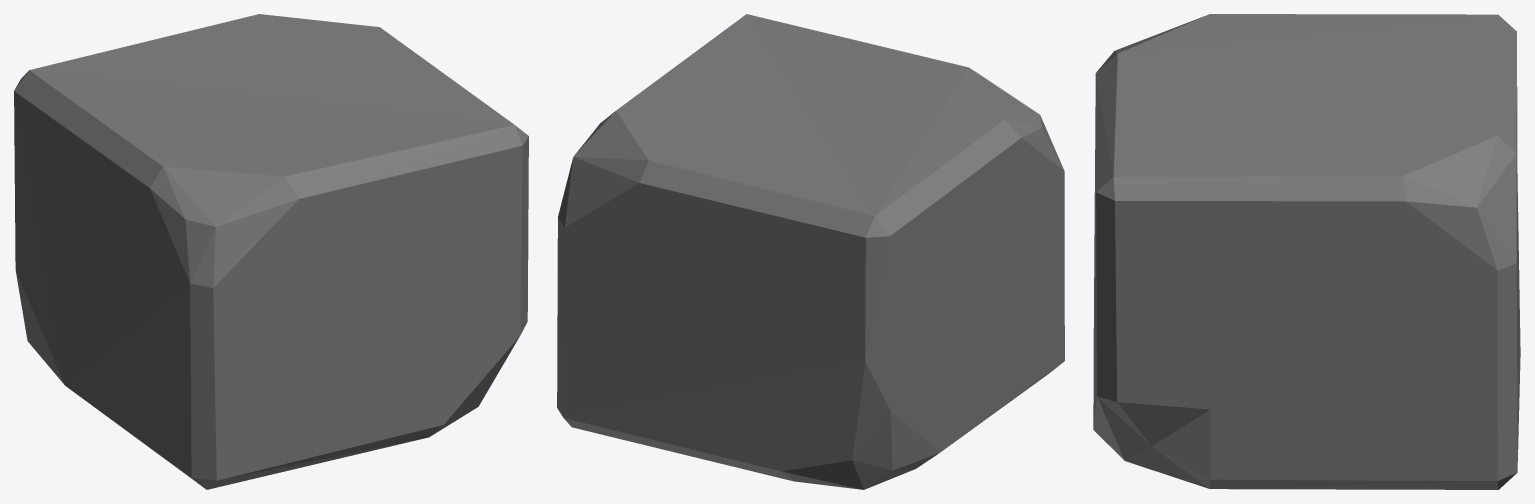
Rendered from Ruins_04.fbx.
3 renders of one model, left to right at view 1: azimuth 30°, elevation 25°; view 2: azimuth 150°, elevation 25°; view 3: azimuth 270°, elevation 25°, orthographic. The views are drawn at different scales.
Parts seen in each view (by area): view 1: Ruins_04; view 2: Ruins_04; view 3: Ruins_04.
Part boxes in pixels (x1,y1,x2,y2): Ruins_04: [14, 14, 528, 489]; Ruins_04: [557, 14, 1064, 489]; Ruins_04: [1093, 14, 1520, 489].
Size of the model in its own units: 0.6778 by 0.559 by 0.684.
